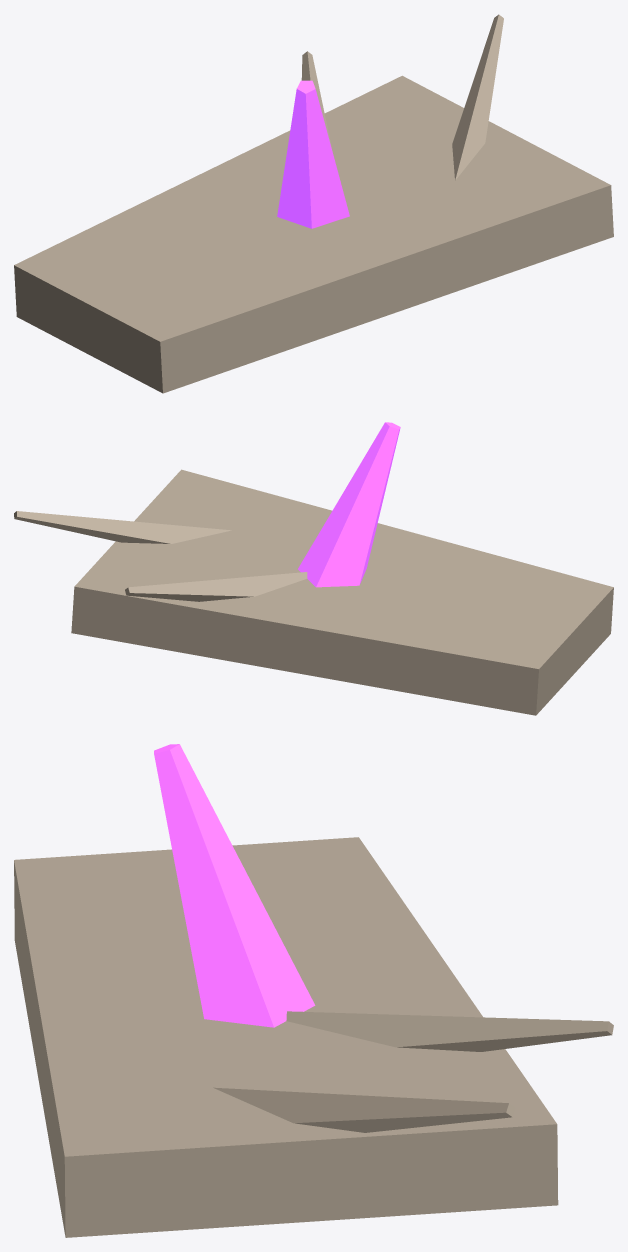
File: enemy_mire_herald_fragment_antler.glb
The picture shows the model from 3 angles, top to bottom: view 1: azimuth 30°, elevation 25°; view 2: azimuth 150°, elevation 25°; view 3: azimuth 270°, elevation 25°; orthographic projection. The views are drawn at different scales.
Visible parts, largest first — view 1: Fragment_Antler_Palm, Fragment_Antler_Crystal, Fragment_Antler_Tine_1, Fragment_Antler_Tine_0; view 2: Fragment_Antler_Palm, Fragment_Antler_Crystal, Fragment_Antler_Tine_1, Fragment_Antler_Tine_0; view 3: Fragment_Antler_Palm, Fragment_Antler_Crystal, Fragment_Antler_Tine_0, Fragment_Antler_Tine_1.
Boxes of the visible parts, x1=… form: Fragment_Antler_Palm: x1=14, y1=75, x2=613, y2=393; Fragment_Antler_Crystal: x1=277, y1=80, x2=349, y2=228; Fragment_Antler_Tine_1: x1=452, y1=14, x2=503, y2=180; Fragment_Antler_Tine_0: x1=301, y1=51, x2=332, y2=149; Fragment_Antler_Palm: x1=71, y1=469, x2=613, y2=715; Fragment_Antler_Crystal: x1=298, y1=422, x2=400, y2=587; Fragment_Antler_Tine_1: x1=14, y1=511, x2=231, y2=543; Fragment_Antler_Tine_0: x1=125, y1=572, x2=307, y2=601; Fragment_Antler_Palm: x1=14, y1=837, x2=558, y2=1237; Fragment_Antler_Crystal: x1=154, y1=744, x2=315, y2=1027; Fragment_Antler_Tine_0: x1=286, y1=1011, x2=613, y2=1051; Fragment_Antler_Tine_1: x1=213, y1=1087, x2=515, y2=1132.
Size of the model in its own units: 0.7484 by 0.2995 by 0.4813.
